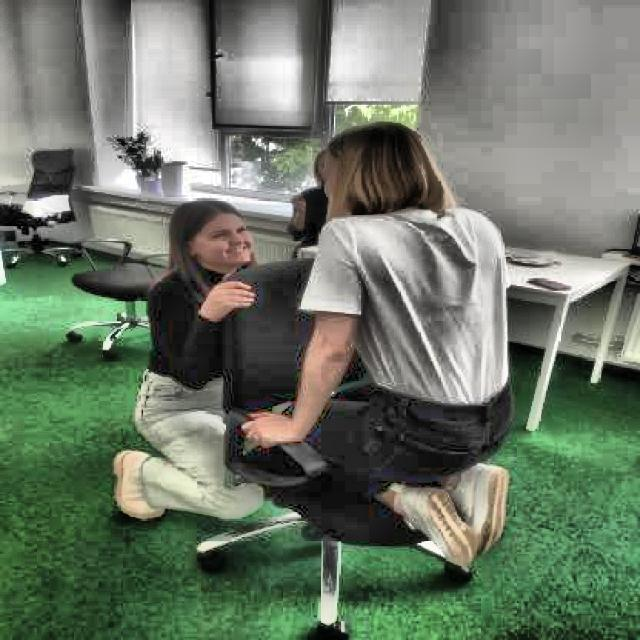cadeira: (200, 242, 486, 633)
